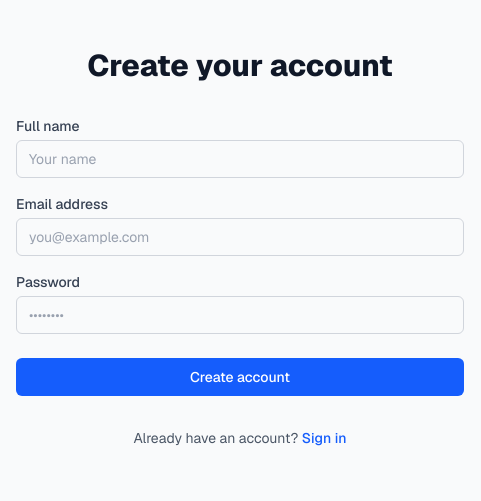
Register Page › Form Validation › should clear error message on new submission attempt
First attempt - fails
Type "new@example.com" into the field with placeholder "you@example.com". click: [240, 237]
box: [16,218,464,256]
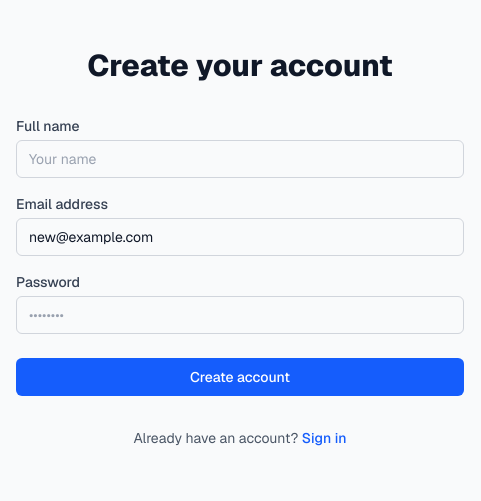
Type "New User" into the field with placeholder "Your name". click: [240, 159]
box: [16,140,464,178]
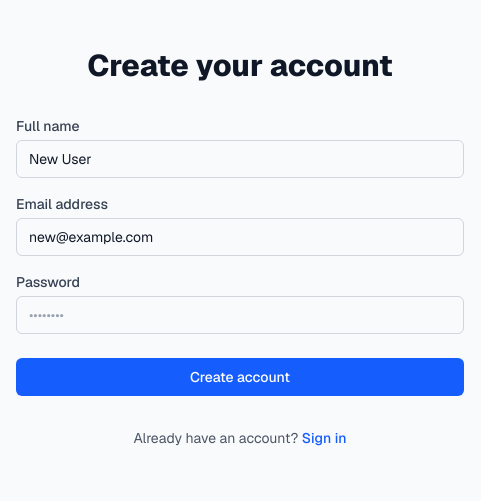
Type "password123" into the password field with placeholder "••••••••". click: [240, 315]
box: [16,296,464,334]
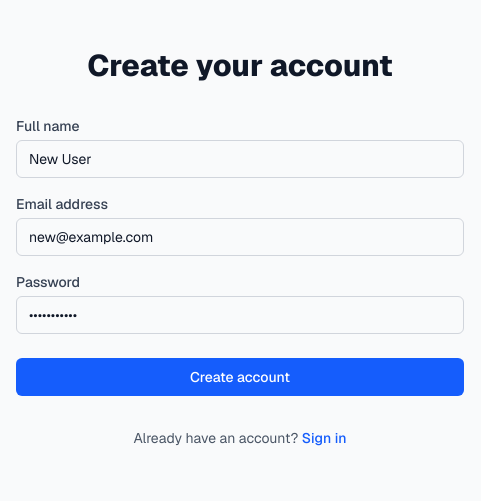
Click the button "Create account". click: [240, 377]
box: [16,358,464,396]
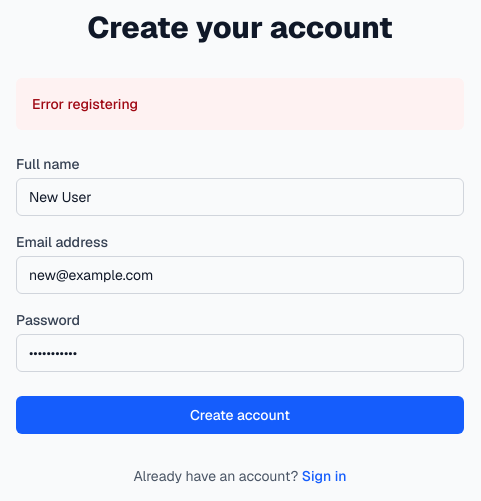
Result: the text "Error registering" is shown at [32,95,138,113]
Second attempt - succeeds and error should clear
Type "newpassword456" into the password field with placeholder "••••••••". click: [240, 353]
box: [16,334,464,372]
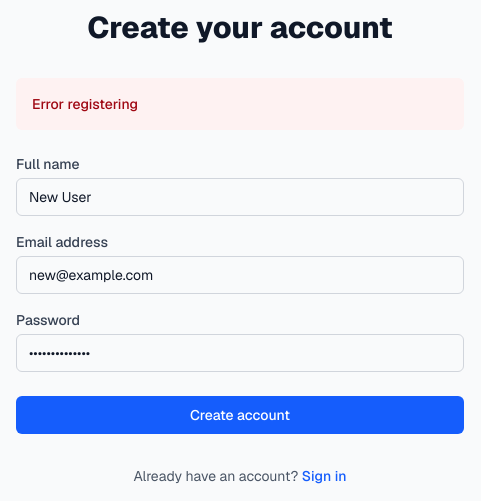
Click the button "Create account". click: [240, 415]
box: [16,396,464,434]
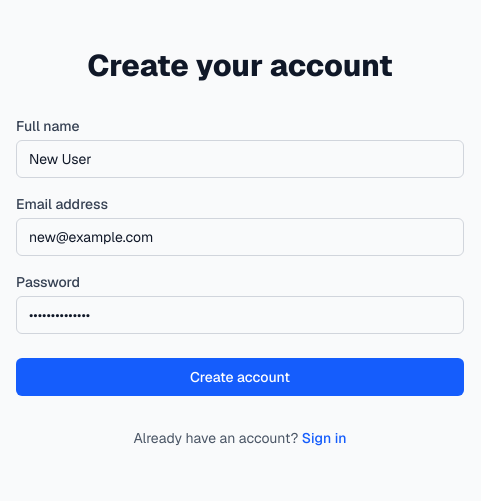
Result: the text "Error registering" is gone
